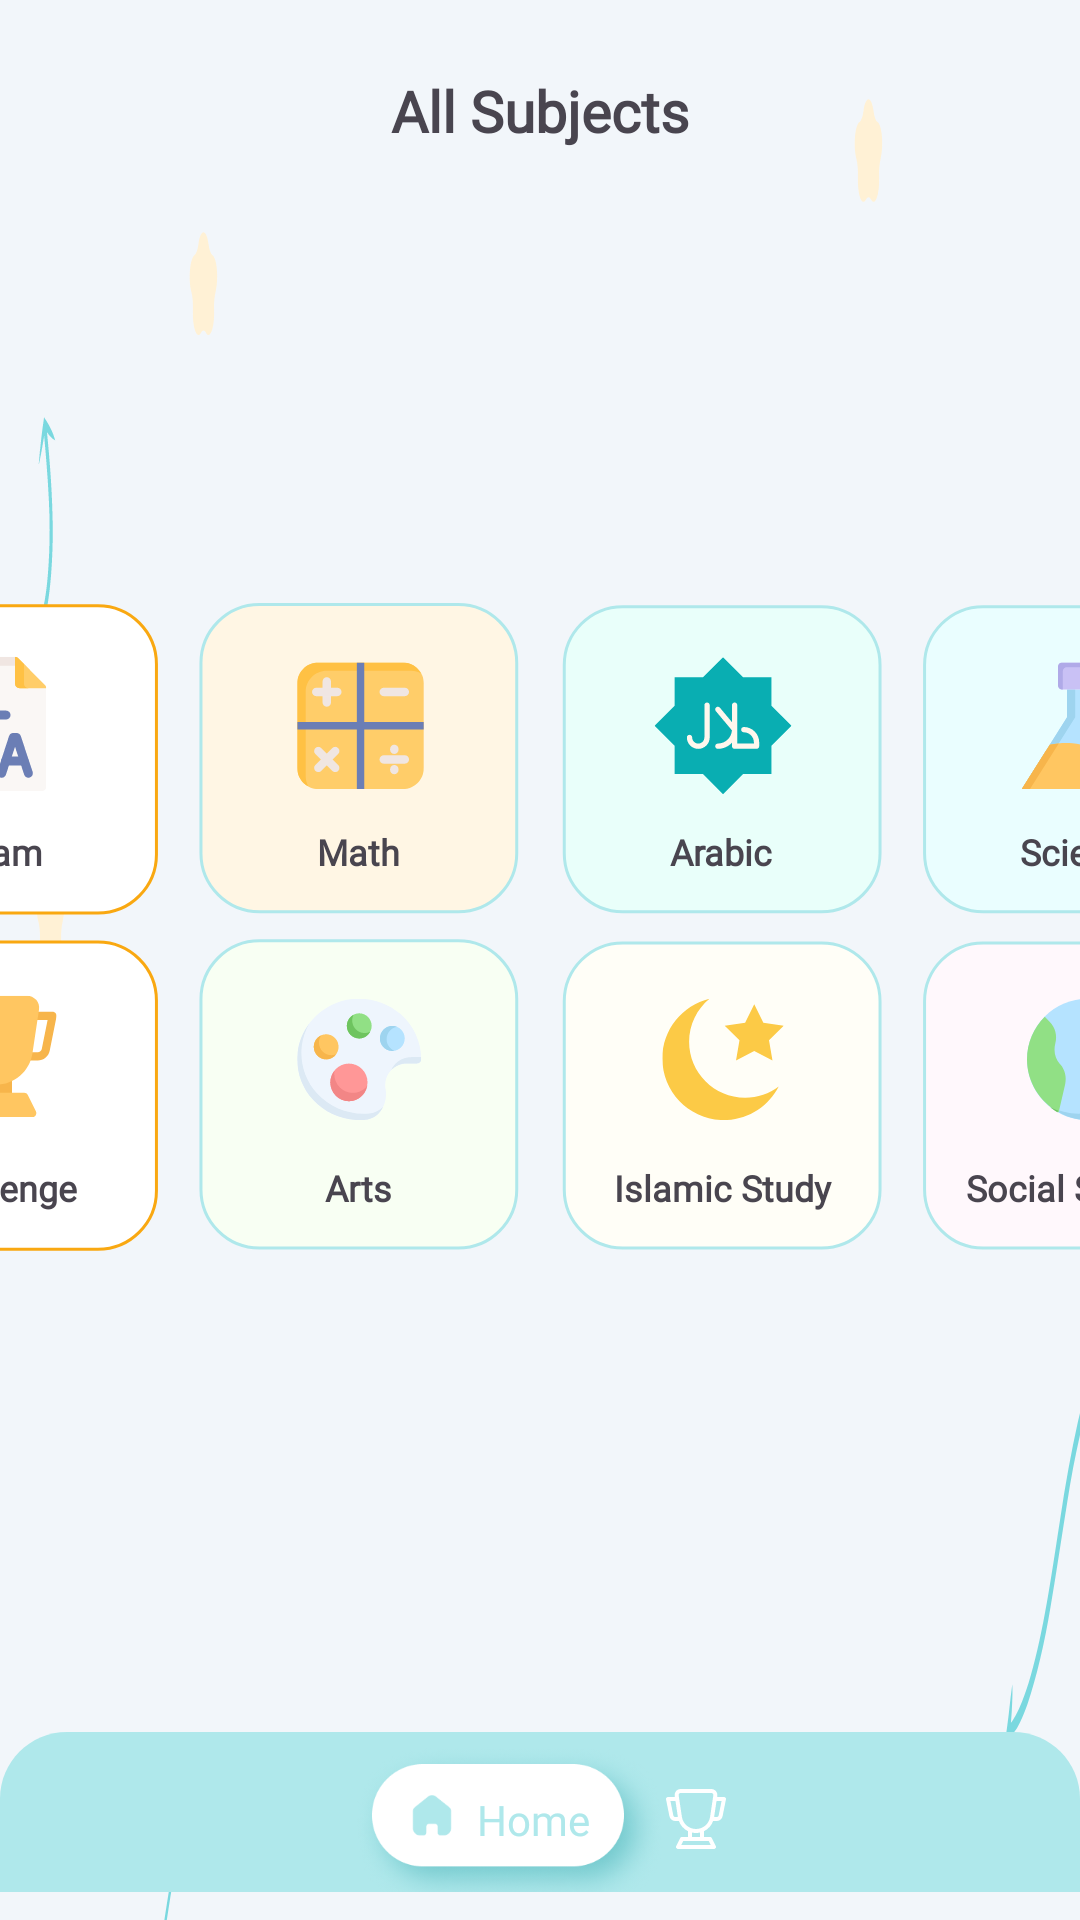

Where to tap for icons on this 1080px×1920px app screen, as point (x, y):
challenge false: point (696, 1819)
